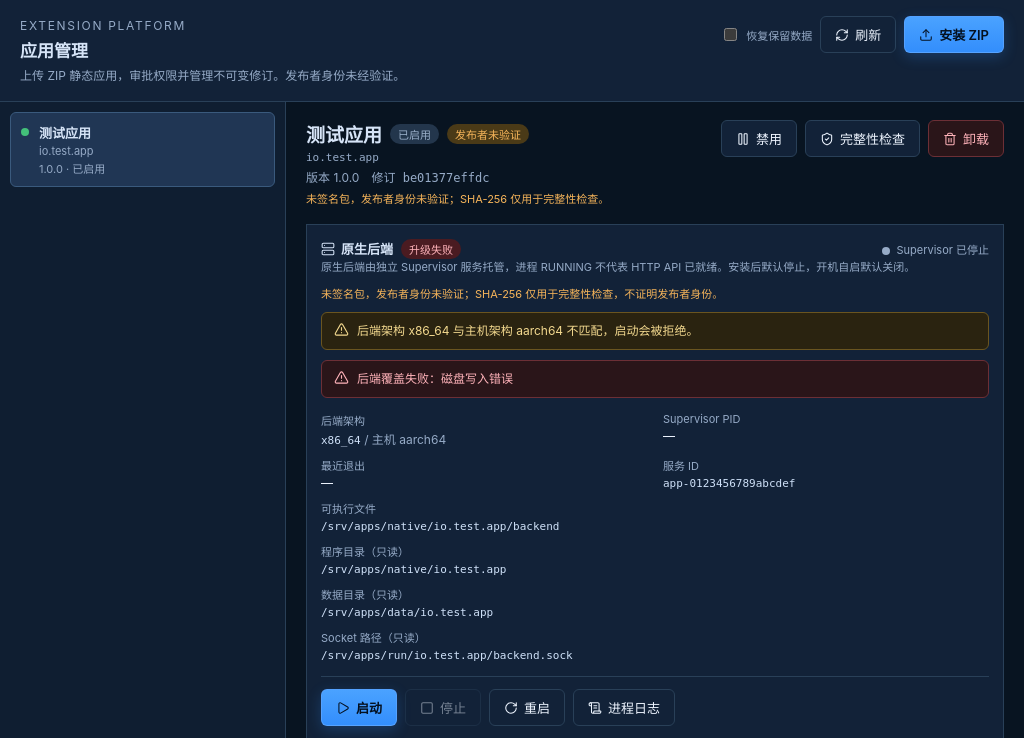
it: ExtensionManagerView native backend › surfaces backend API errors
Click the button "启动" at coordinates (359, 708), box left=321, top=689, right=397, bottom=726
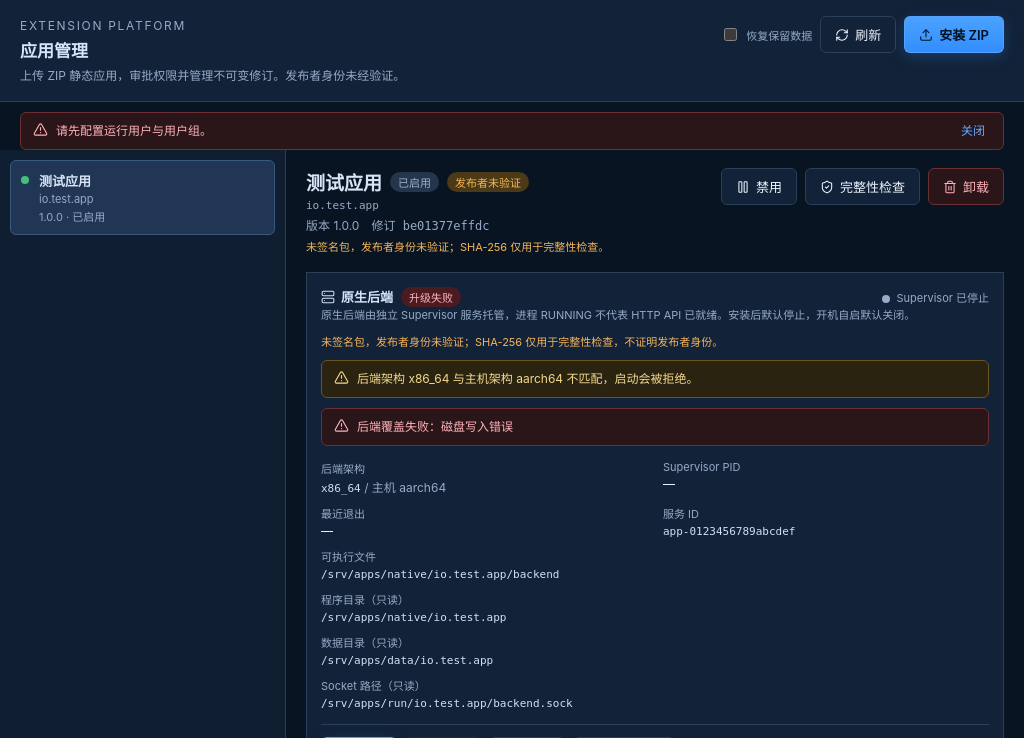
Expected: the message "请先配置运行用户与用户组。 关闭" is shown, left=20, top=112, right=1004, bottom=150
